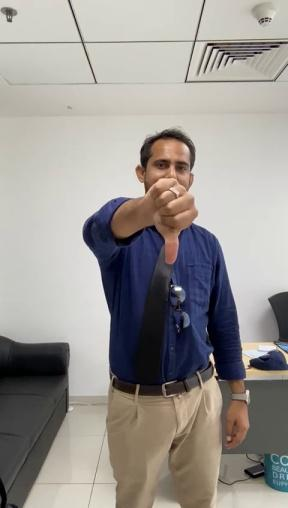thumbs-down: (147, 175, 200, 267)
